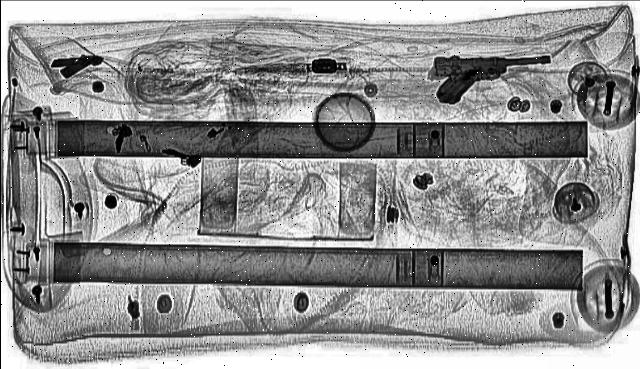Gun: (426, 53, 556, 105)
